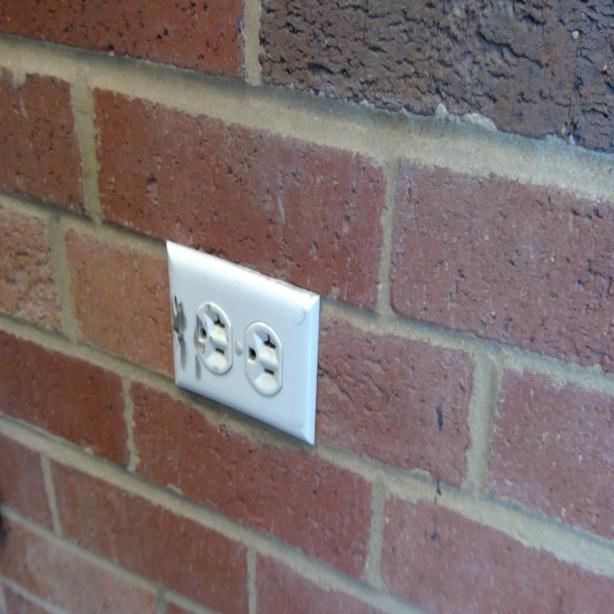typeb: (192, 299, 233, 376), (244, 320, 281, 391)
